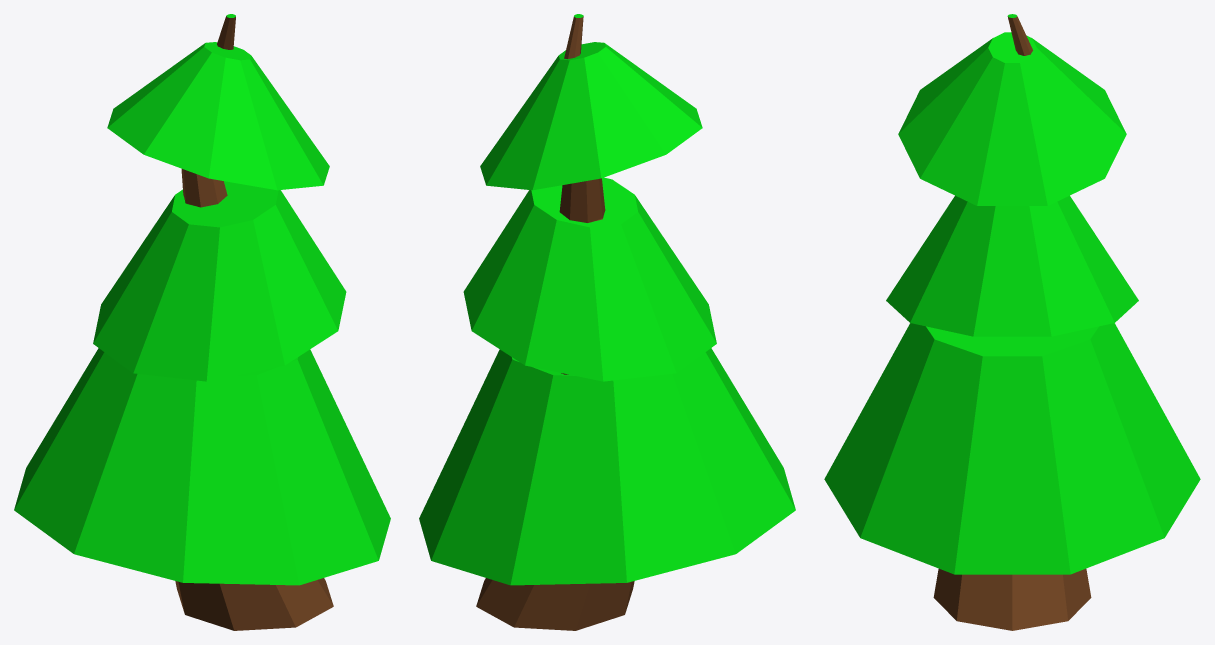
The model's file is tree.fbx.
3 renders of one model, left to right at view 1: azimuth 30°, elevation 25°; view 2: azimuth 150°, elevation 25°; view 3: azimuth 270°, elevation 25°, orthographic. The views are drawn at different scales.
Visible parts, largest first — view 1: Cylinder; view 2: Cylinder; view 3: Cylinder.
Part boxes in pixels (box(x1,y1,x2,y2)): Cylinder: box(14, 14, 390, 630); Cylinder: box(419, 14, 795, 630); Cylinder: box(824, 14, 1200, 630).
Bounding box in the file's own units: 450 × 798 × 477.
